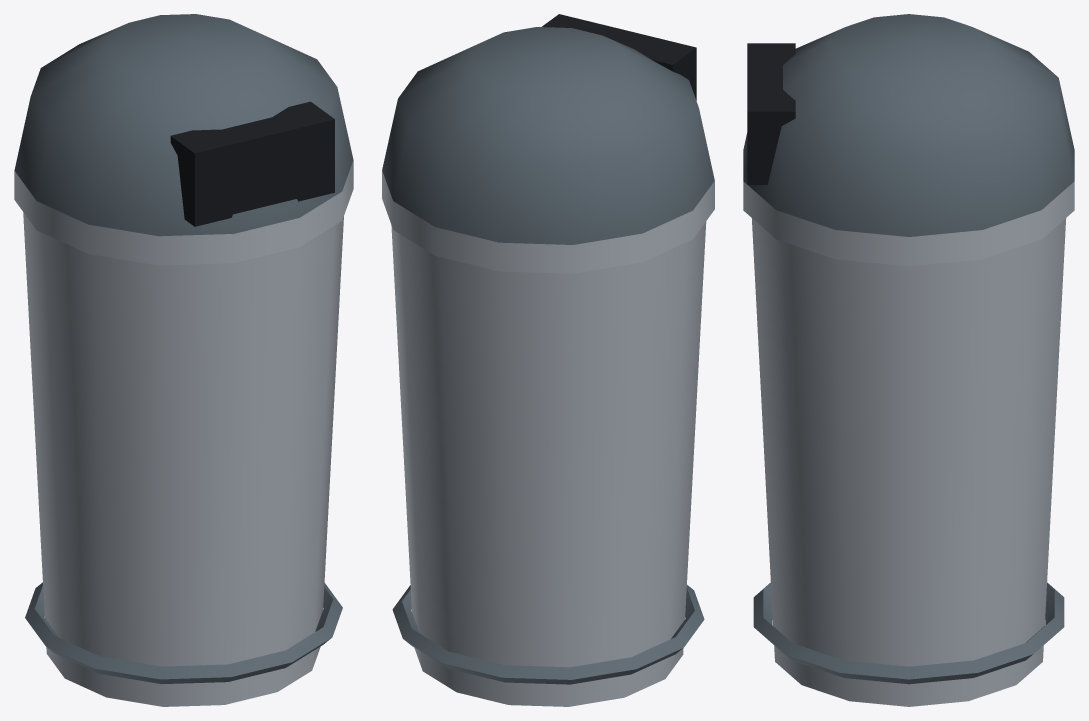
File: trash_can.glb
3 views of the same model, side by side, from view 1: azimuth 30°, elevation 25°; view 2: azimuth 150°, elevation 25°; view 3: azimuth 270°, elevation 25° (orthographic).
Visible parts, largest first — view 1: trash_can; view 2: trash_can; view 3: trash_can.
Boxes of the visible parts, x1,y1,x2,y2 form: trash_can: (14, 14, 353, 706); trash_can: (382, 14, 714, 706); trash_can: (743, 14, 1074, 706).
Bounding box in the file's own units: 0.42 × 0.83 × 0.4095.
